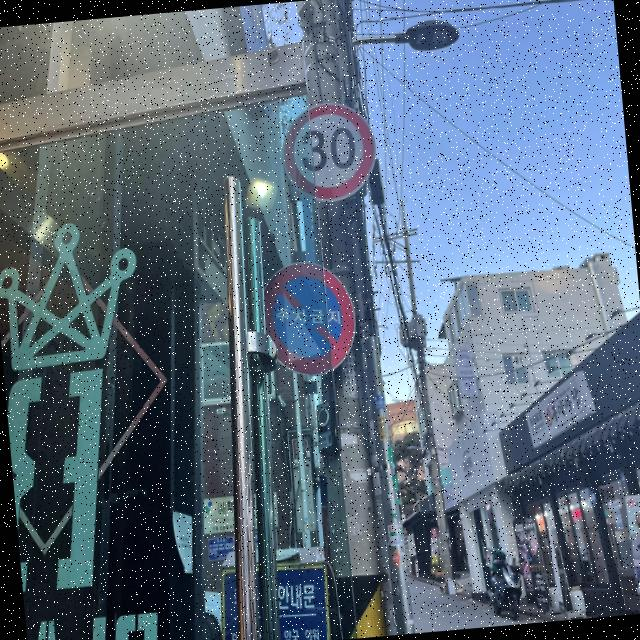Ograniczenie predkosci do 30: (278, 98, 379, 202)
